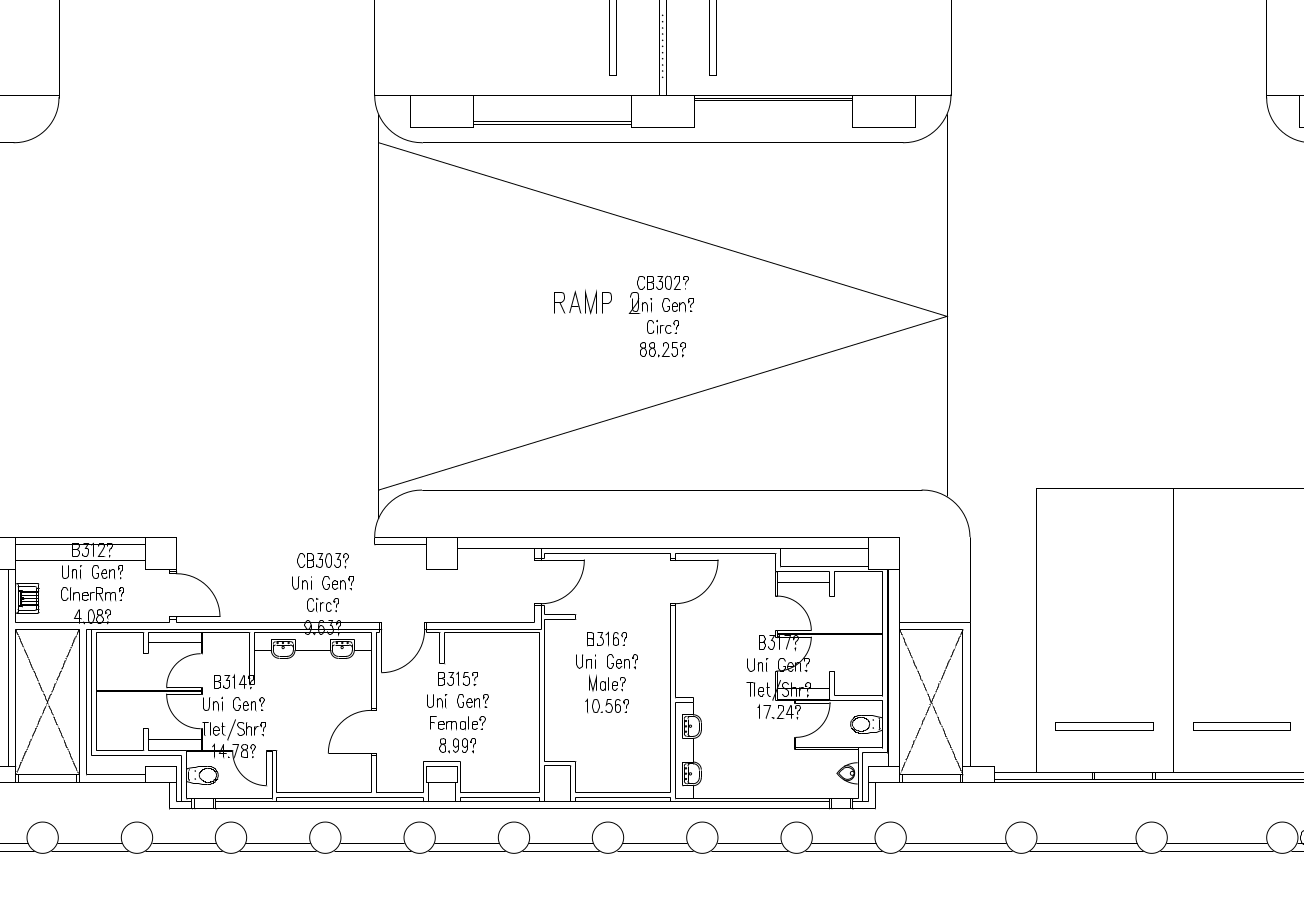door: (377, 622, 428, 677), (670, 555, 721, 610), (323, 706, 378, 756), (172, 571, 224, 621), (538, 556, 590, 606), (229, 742, 269, 790), (773, 589, 816, 631), (788, 700, 831, 742), (163, 692, 206, 734), (163, 647, 206, 689)
